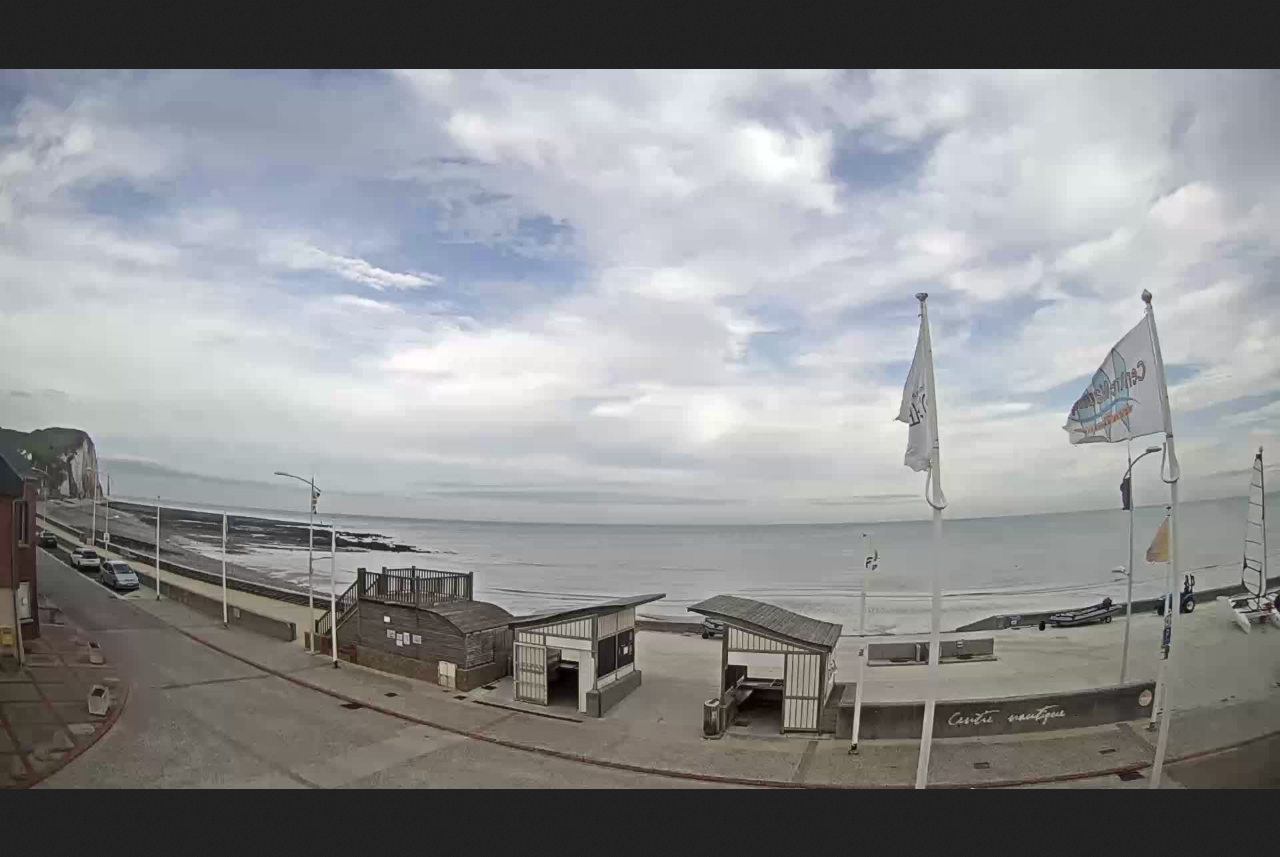yes: (1062, 318, 1169, 442), (890, 327, 945, 474)
